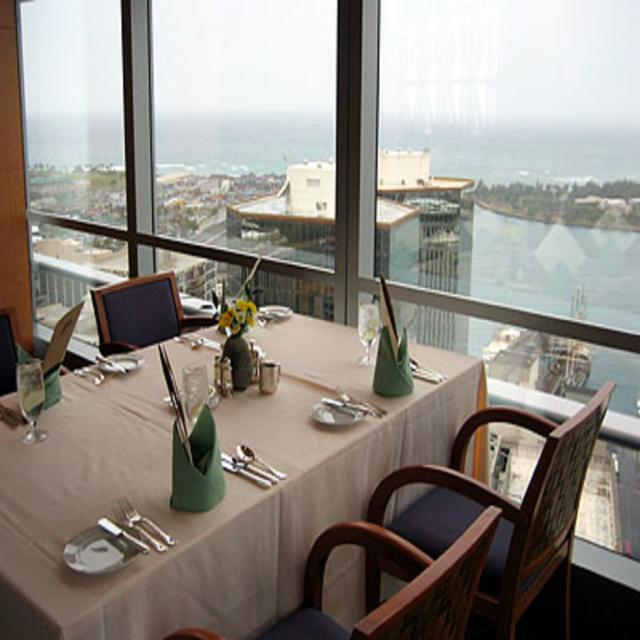chair: (368, 386, 614, 638), (266, 508, 502, 640), (88, 271, 184, 356)
desk: (0, 305, 482, 638)
